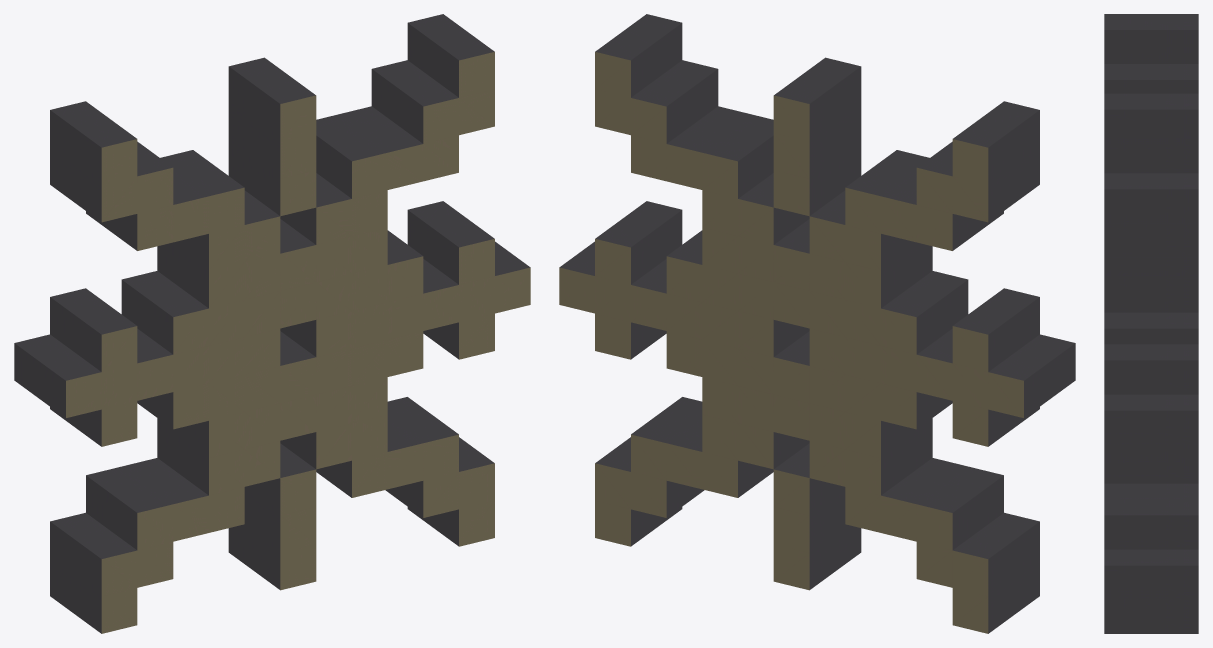
The model's file is Bruce-transformed.glb.
3 renders of one model, left to right at view 1: azimuth 30°, elevation 25°; view 2: azimuth 150°, elevation 25°; view 3: azimuth 270°, elevation 25°, orthographic. The views are drawn at different scales.
Parts seen in each view (by area): view 1: Bruce; view 2: Bruce; view 3: Bruce.
Boxes of the visible parts, <box> form: Bruce: <box>14,14,530,633</box>; Bruce: <box>559,14,1075,633</box>; Bruce: <box>1104,14,1198,633</box>.
Size of the model in its own units: 3 by 3 by 0.5765.
2 materials, 2 textured.
